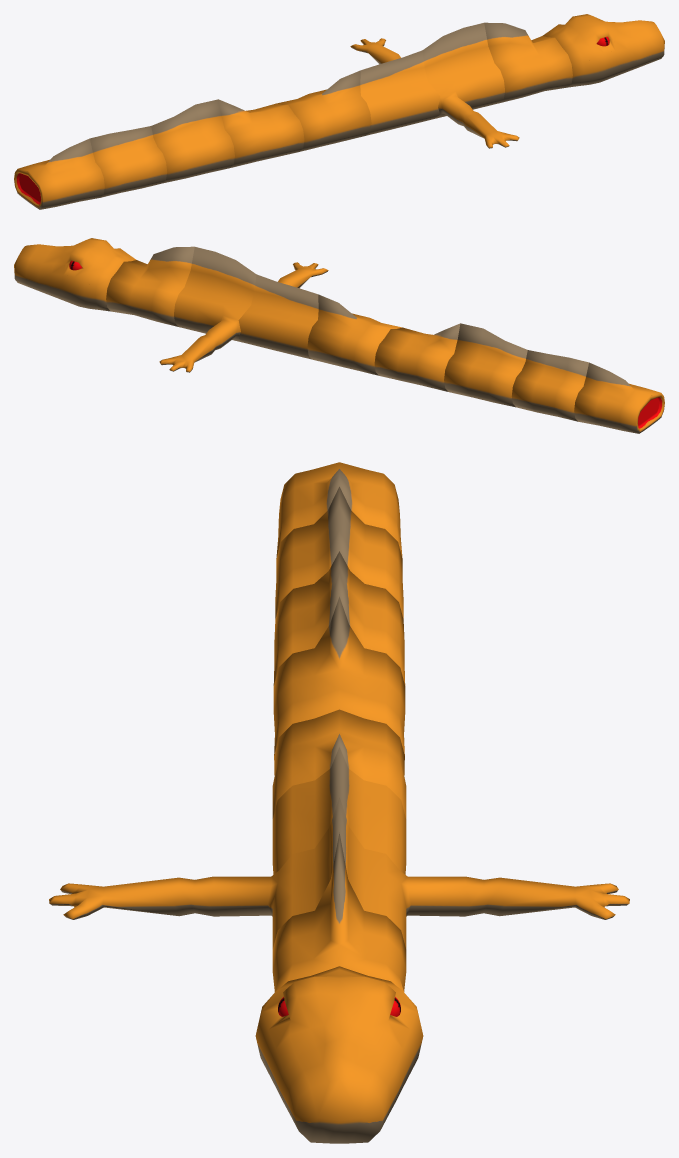
Rendered from snake2.glb.
The picture shows the model from 3 angles, top to bottom: view 1: azimuth 30°, elevation 25°; view 2: azimuth 150°, elevation 25°; view 3: azimuth 270°, elevation 25°; orthographic projection. The views are drawn at different scales.
Visible parts, largest first — view 1: Cylinder.007, Cylinder, Cylinder.003, Cylinder.006, Cylinder.008, Cylinder.001, Cylinder.005, Cylinder.004, Cylinder.002; view 2: Cylinder.007, Cylinder, Cylinder.003, Cylinder.006, Cylinder.008, Cylinder.001, Cylinder.005, Cylinder.004, Cylinder.002; view 3: Cylinder.007, Cylinder, Cylinder.004, Cylinder.008, Cylinder.006, Cylinder.003, Cylinder.005, Cylinder.002, Cylinder.001.
Boxes of the visible parts, x1,y1,x2,y2 form: Cylinder.007: (350, 23, 519, 148); Cylinder: (542, 14, 664, 87); Cylinder.003: (151, 99, 234, 183); Cylinder.006: (360, 50, 440, 135); Cylinder.008: (484, 22, 572, 102); Cylinder.001: (14, 138, 104, 209); Cylinder.005: (277, 70, 371, 151); Cylinder.004: (218, 99, 304, 167); Cylinder.002: (90, 126, 167, 197); Cylinder.007: (159, 247, 328, 372); Cylinder: (14, 238, 136, 311); Cylinder.003: (444, 323, 527, 407); Cylinder.006: (238, 274, 318, 359); Cylinder.008: (106, 246, 194, 326); Cylinder.001: (574, 362, 664, 433); Cylinder.005: (307, 294, 401, 375); Cylinder.004: (374, 323, 460, 391); Cylinder.002: (511, 350, 588, 421); Cylinder.007: (49, 797, 629, 948); Cylinder: (255, 966, 423, 1143); Cylinder.004: (273, 596, 405, 755); Cylinder.008: (272, 832, 406, 992); Cylinder.006: (272, 747, 406, 874); Cylinder.003: (273, 551, 405, 685); Cylinder.005: (272, 709, 406, 818); Cylinder.002: (275, 486, 403, 618); Cylinder.001: (276, 462, 402, 558).
Bounding box in the file's own units: 21.92 × 2.43 × 8.69.
Materials: 1 (1 with a texture image).
